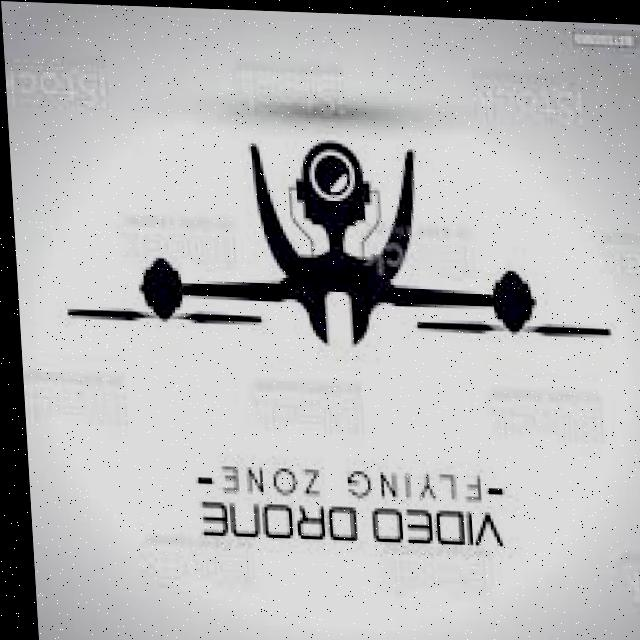drone: (48, 118, 625, 403)
